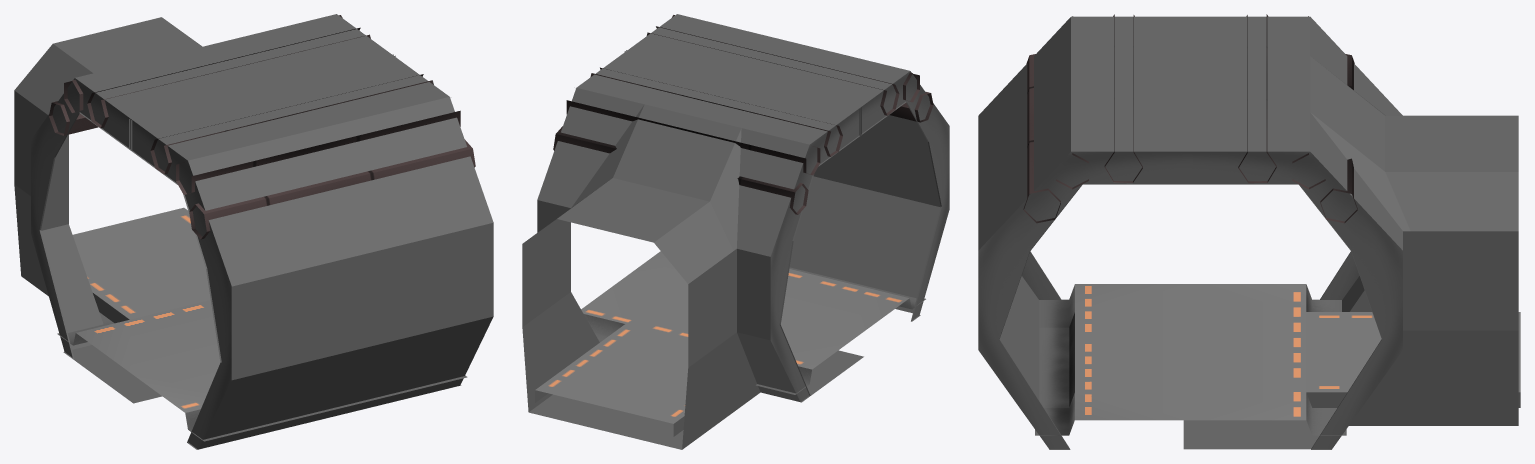
The model's file is CorridorBranch.fbx.
The picture shows the model from 3 angles, left to right: view 1: azimuth 30°, elevation 25°; view 2: azimuth 150°, elevation 25°; view 3: azimuth 270°, elevation 25°; orthographic projection. The views are drawn at different scales.
Visible parts, largest first — view 1: SideDoor; view 2: SideDoor; view 3: SideDoor.
Part boxes in pixels (x1=…): SideDoor: x1=14, y1=14, x2=493, y2=449; SideDoor: x1=522, y1=14, x2=949, y2=449; SideDoor: x1=978, y1=14, x2=1520, y2=449.
Bounding box in the file's own units: 398 × 399 × 657.
Materials: 2 (2 with a texture image).
